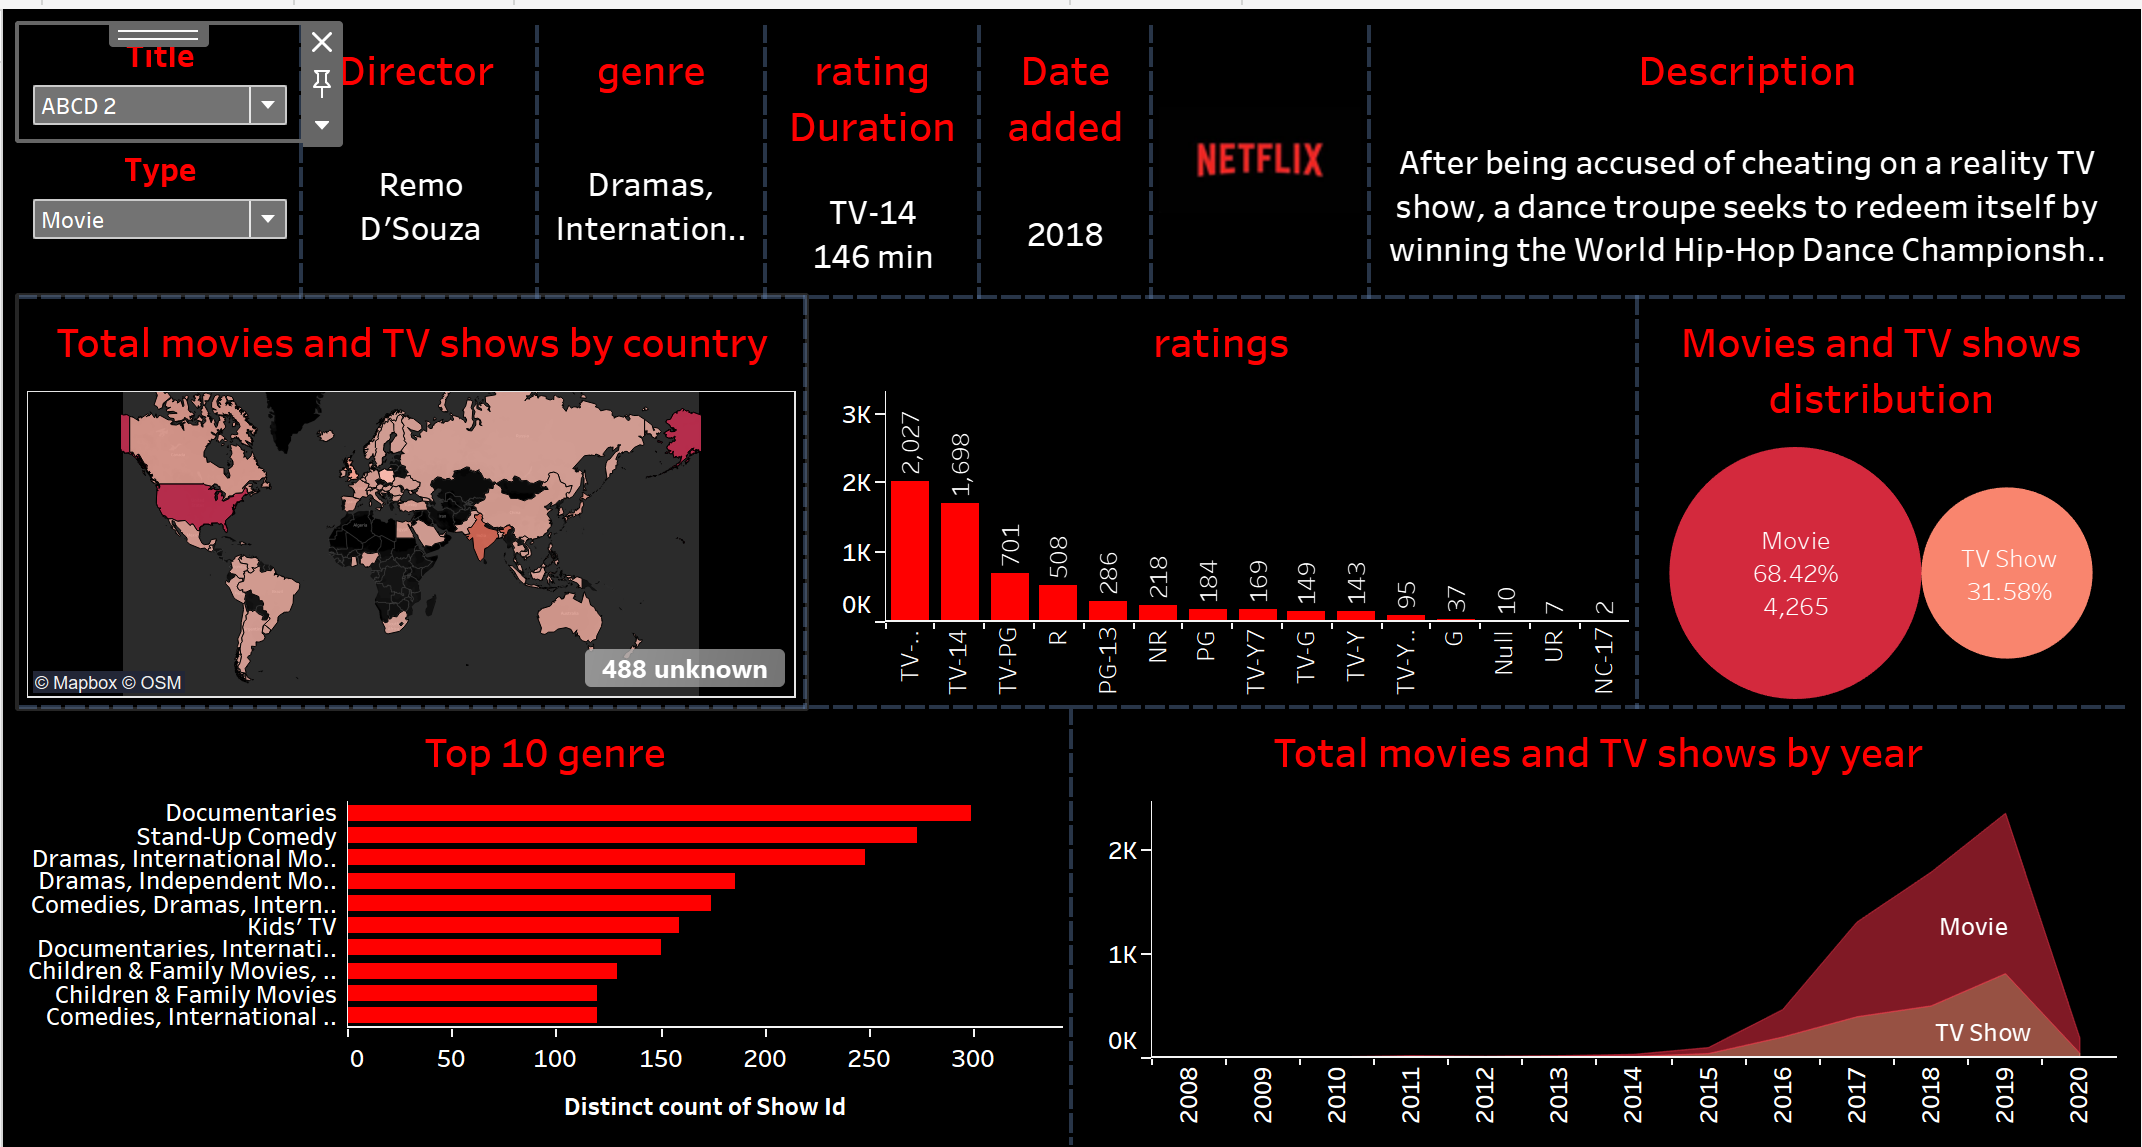

This screenshot's page, from the dashboard's own definition file:
{"tool":"tableau","page":{"name":"Dashboard 1","canvas":[1000,1000],"units":"permille","ordinal":0},"visuals":[{"type":"filter","title":"Description","param":"[federated.0z16nl418iawpm1fp77yv133cv5m].[none:title:nk]","box":[7.2,13.9,131.7,99]},{"type":"worksheet","title":"Director","mark":"Automatic","box":[138.9,13.9,110.9,236.1]},{"type":"worksheet","title":"genre","mark":"Automatic","box":[249.8,13.9,106.4,236.1]},{"type":"worksheet","title":"rating","mark":"Automatic","box":[356.2,13.9,100.1,236.1]},{"type":"worksheet","title":"Date Added","mark":"Automatic","box":[456.3,13.9,80.2,236.1]},{"type":"image","param":"C:/Users/rohit/OneDrive/Desktop/Tableau/th.jpeg","box":[536.5,13.9,102.8,236.1]},{"type":"worksheet","title":"Description","mark":"Automatic","box":[639.3,13.9,353.5,236.1]},{"type":"filter","title":"Description","param":"[federated.0z16nl418iawpm1fp77yv133cv5m].[none:type:nk]","box":[7.2,112.9,131.7,99]},{"type":"worksheet","title":"Total tv shows and movies by country","mark":"Multipolygon","box":[7.2,250,367.9,355.9]},{"type":"worksheet","title":"ratings","mark":"Automatic","rows":["show_id"],"cols":["rating"],"box":[375.1,250,389.2,355.9]},{"type":"worksheet","title":"Movies and tv shows distribution","mark":"Circle","box":[764.3,250,228.5,355.9]},{"type":"worksheet","title":"top 10 genre","mark":"Automatic","rows":["listed_in"],"cols":["show_id"],"box":[7.2,605.9,492.3,380.2]},{"type":"worksheet","title":"movies and tv shows by date","mark":"Area","rows":["show_id"],"cols":["date_added"],"box":[499.5,605.9,493.2,380.2]}]}

Visuals, with their boxes on the dashboard's canvas, which has no fixed pixel size, in thousandths of its width and height (x1, y1, x2, y2). These are canvas units, not pixel positions in the 2142x1147 screenshot, which may show the page scaled, cropped or inside an application window:
"Description" filter: [x1=7, y1=14, x2=139, y2=113]
"Director" worksheet: [x1=139, y1=14, x2=250, y2=250]
"genre" worksheet: [x1=250, y1=14, x2=356, y2=250]
"rating" worksheet: [x1=356, y1=14, x2=456, y2=250]
"Date Added" worksheet: [x1=456, y1=14, x2=536, y2=250]
image: [x1=536, y1=14, x2=639, y2=250]
"Description" worksheet: [x1=639, y1=14, x2=993, y2=250]
"Description" filter: [x1=7, y1=113, x2=139, y2=212]
"Total tv shows and movies by country" worksheet (Multipolygon marks): [x1=7, y1=250, x2=375, y2=606]
"ratings" worksheet: [x1=375, y1=250, x2=764, y2=606]
"Movies and tv shows distribution" worksheet (Circle marks): [x1=764, y1=250, x2=993, y2=606]
"top 10 genre" worksheet: [x1=7, y1=606, x2=500, y2=986]
"movies and tv shows by date" worksheet (Area marks): [x1=500, y1=606, x2=993, y2=986]
